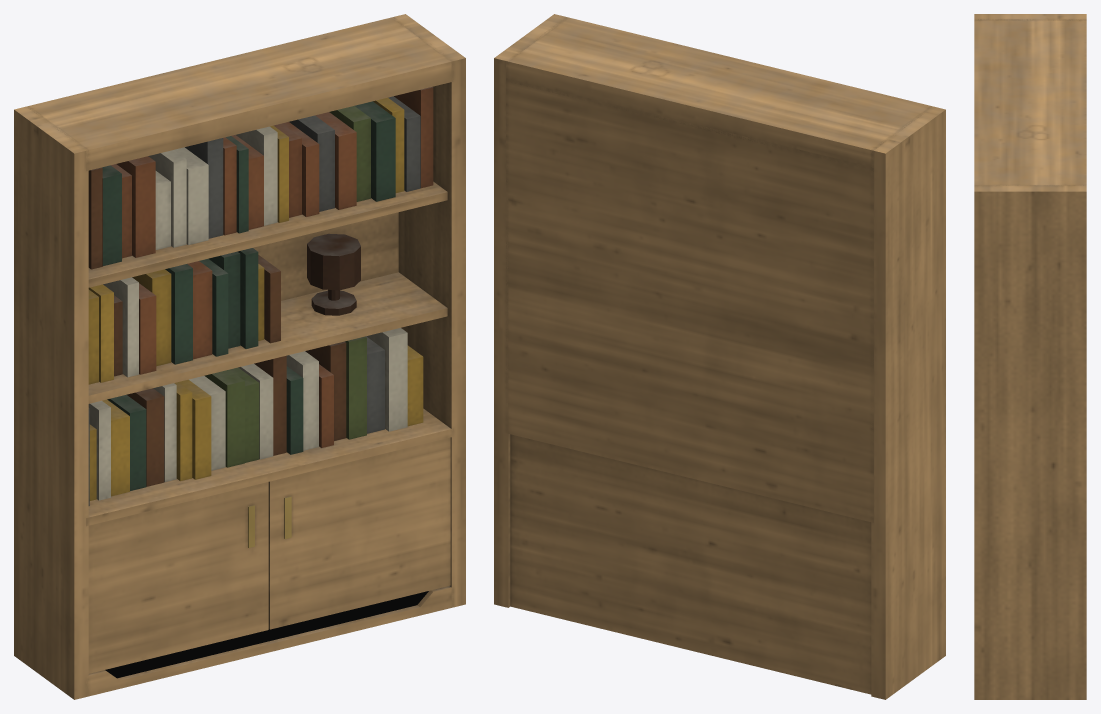
Rendered from H_Bookcase_Maple.fbx.
3 renders of one model, left to right at view 1: azimuth 30°, elevation 25°; view 2: azimuth 150°, elevation 25°; view 3: azimuth 270°, elevation 25°, orthographic. The views are drawn at different scales.
Visible parts, largest first — view 1: H_Bookcase_Maple; view 2: H_Bookcase_Maple; view 3: H_Bookcase_Maple.
Boxes of the visible parts, bbox=[...] form: H_Bookcase_Maple: bbox=[14, 14, 465, 699]; H_Bookcase_Maple: bbox=[494, 14, 945, 699]; H_Bookcase_Maple: bbox=[974, 14, 1086, 699].
Size of the model in its own units: 600 by 800 by 160.
Materials: 1 (1 with a texture image).
